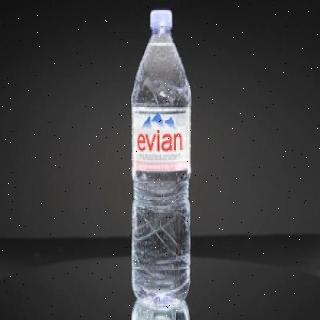Plastic-bottle: (126, 5, 195, 313)
